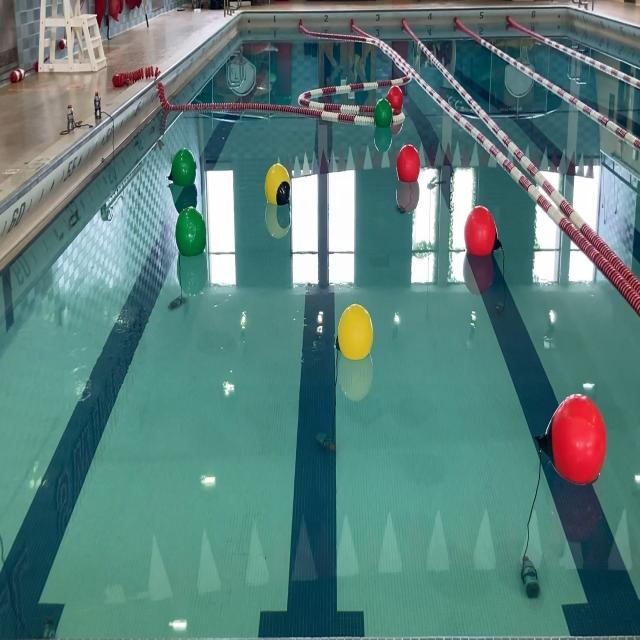buoy: (538, 393, 608, 486), (464, 204, 504, 258), (335, 306, 372, 360), (175, 207, 208, 259), (266, 162, 292, 210), (169, 147, 198, 190), (396, 144, 419, 184), (373, 98, 393, 131), (388, 85, 405, 112)
